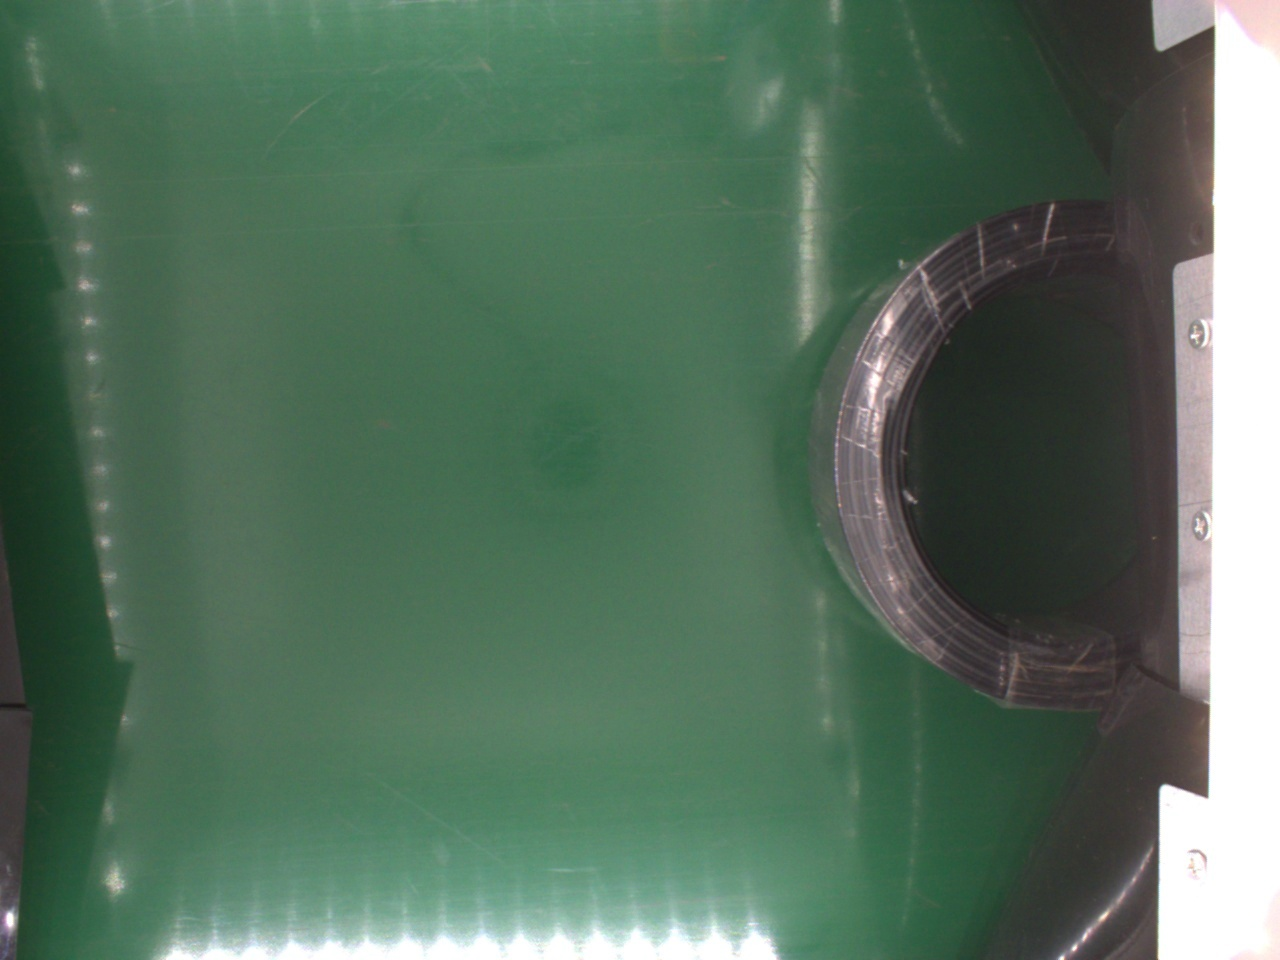black: (805, 198, 1177, 719)
